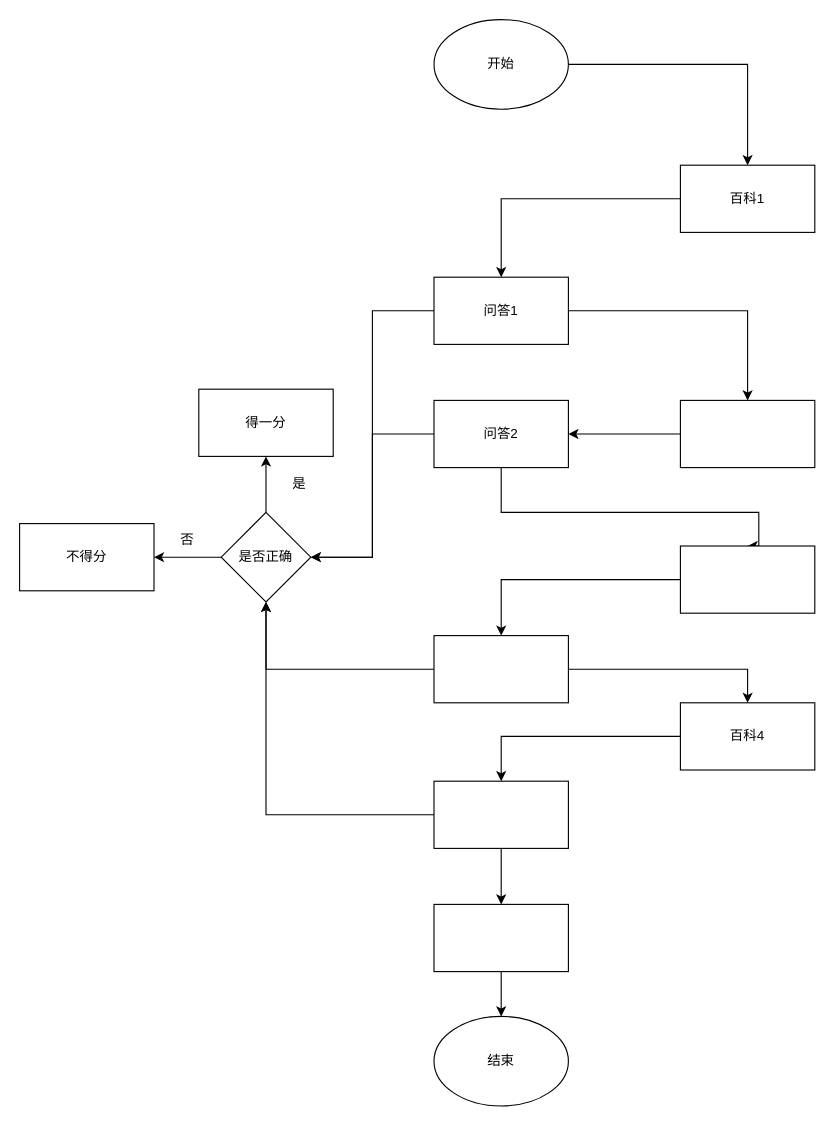
Some shapes in this 834 by 1126 pixel diagram are drawn without their labels. Here are the shapes that lost their labels. From the top down, the centre of each, then its label:
(747,433): 百科2
(747,579): 百科3
(500,668): 问答3
(500,814): 问答4
(500,937): 结算总分
